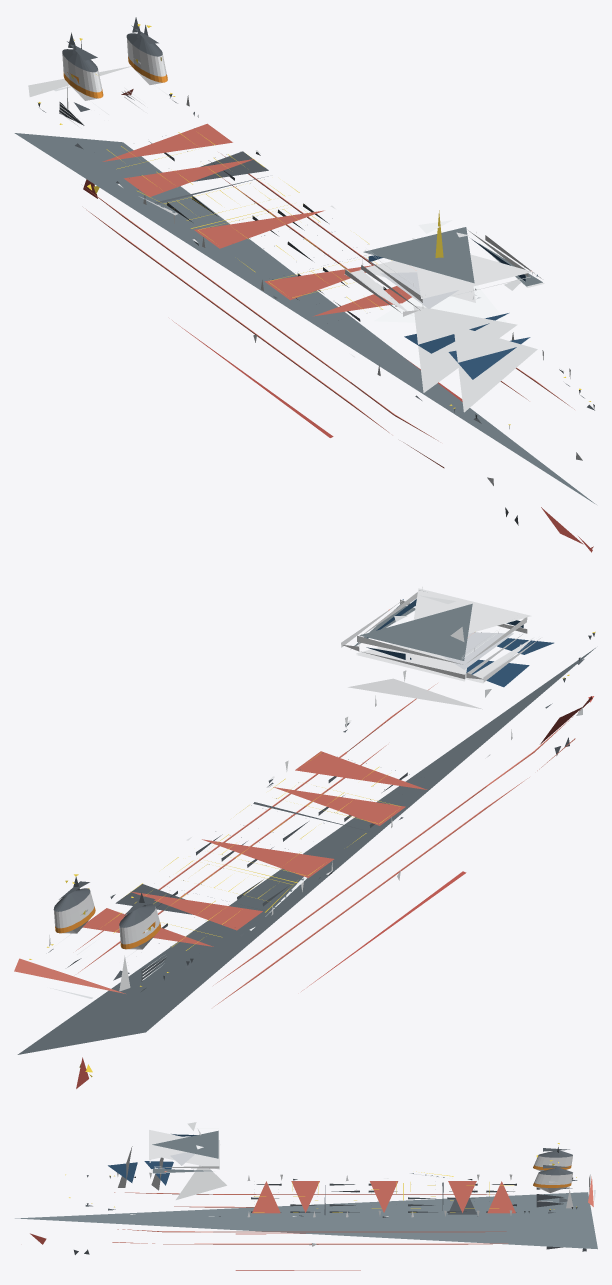
File: ship_27.glb
The picture shows the model from 3 angles, top to bottom: view 1: azimuth 30°, elevation 25°; view 2: azimuth 150°, elevation 25°; view 3: azimuth 270°, elevation 25°; orthographic projection. The views are drawn at different scales.
Parts seen in each view (by area): view 1: TrueHelm_Ship_27; view 2: TrueHelm_Ship_27; view 3: TrueHelm_Ship_27.
Boxes of the visible parts, x1,y1,x2,y2 form: TrueHelm_Ship_27: (14, 17, 596, 552); TrueHelm_Ship_27: (14, 587, 595, 1088); TrueHelm_Ship_27: (15, 1122, 597, 1270).
Bounding box in the file's own units: 0.1375 × 0.2182 × 0.8446.
